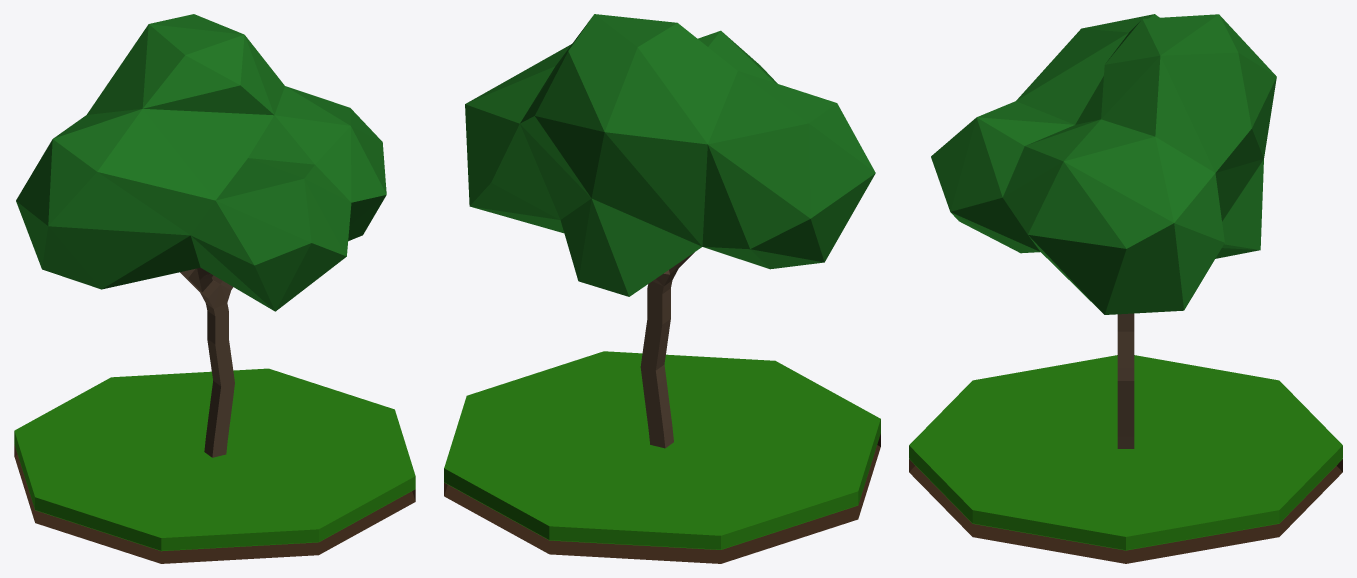
File: tree.gltf
3 views of the same model, side by side, from view 1: azimuth 30°, elevation 25°; view 2: azimuth 150°, elevation 25°; view 3: azimuth 270°, elevation 25° (orthographic). The views are drawn at different scales.
Parts seen in each view (by area): view 1: Mball.008, Circle, Vert; view 2: Mball.008, Circle, Vert; view 3: Mball.008, Circle, Vert.
Boxes of the visible parts, x1=… form: Mball.008: x1=16, y1=14, x2=386, y2=311; Circle: x1=14, y1=368, x2=415, y2=563; Vert: x1=180, y1=267, x2=234, y2=457; Mball.008: x1=465, y1=14, x2=875, y2=296; Circle: x1=444, y1=351, x2=880, y2=563; Vert: x1=640, y1=252, x2=694, y2=448; Mball.008: x1=931, y1=14, x2=1276, y2=314; Circle: x1=909, y1=355, x2=1342, y2=563; Vert: x1=1117, y1=313, x2=1134, y2=448.
Size of the model in its own units: 8.12 by 9.2 by 8.09.
